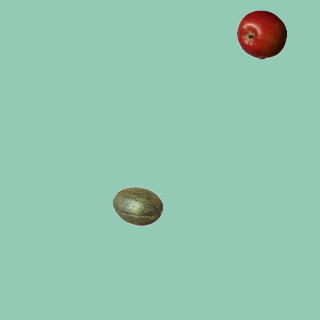Apple Braeburn: (236, 9, 286, 59)
Melon Piel de Sapo: (112, 181, 162, 231)
